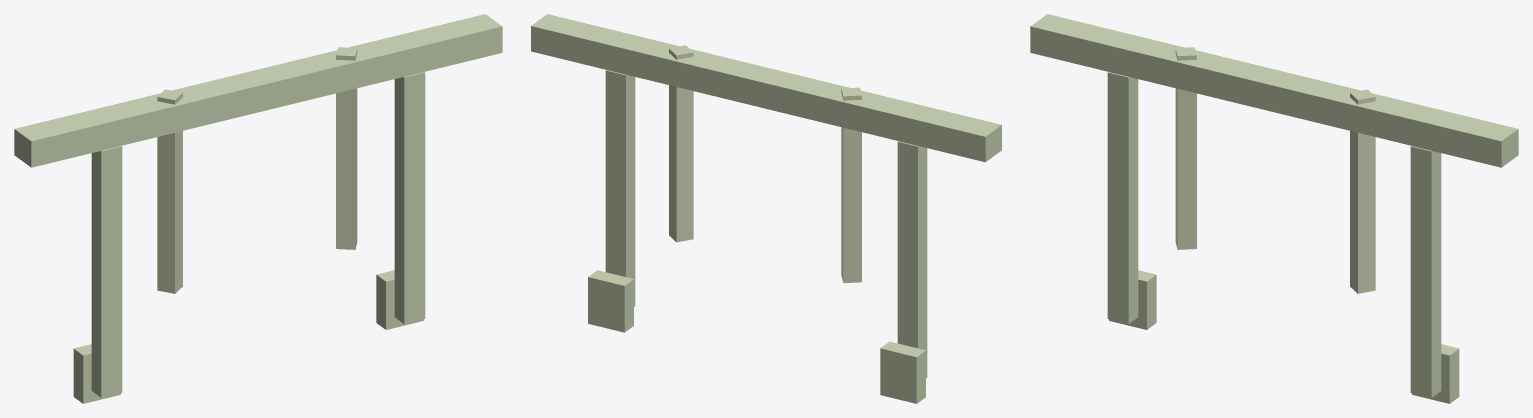
Rendered from furniture_sign_overhead_bracket.glb.
3 renders of one model, left to right at view 1: azimuth 30°, elevation 25°; view 2: azimuth 150°, elevation 25°; view 3: azimuth 330°, elevation 25°, orthographic. The views are drawn at different scales.
Visible parts, largest first — view 1: beam, hanger_right, hanger_left, brace_left, brace_right, clamp_left, clamp_right; view 2: beam, hanger_left, hanger_right, brace_right, brace_left, clamp_left, clamp_right; view 3: beam, hanger_left, hanger_right, brace_right, brace_left, clamp_right, clamp_left.
Boxes of the visible parts, left/top/right/bottom form: beam: left=14, top=14, right=502, bottom=167; hanger_right: left=394, top=72, right=425, bottom=323; hanger_left: left=91, top=146, right=122, bottom=397; brace_left: left=157, top=89, right=182, bottom=293; brace_right: left=336, top=47, right=357, bottom=249; clamp_left: left=73, top=344, right=120, bottom=403; clamp_right: left=376, top=270, right=423, bottom=329; beam: left=531, top=14, right=1001, bottom=162; hanger_left: left=897, top=141, right=927, bottom=378; hanger_right: left=605, top=70, right=635, bottom=306; brace_right: left=669, top=45, right=693, bottom=242; brace_left: left=841, top=87, right=861, bottom=283; clamp_left: left=880, top=341, right=925, bottom=403; clamp_right: left=588, top=270, right=633, bottom=332; beam: left=1030, top=14, right=1518, bottom=167; hanger_left: left=1107, top=72, right=1138, bottom=323; hanger_right: left=1410, top=146, right=1441, bottom=397; brace_right: left=1350, top=89, right=1375, bottom=293; brace_left: left=1175, top=47, right=1196, bottom=249; clamp_right: left=1412, top=344, right=1459, bottom=403; clamp_left: left=1109, top=270, right=1156, bottom=329.
Bounding box in the file's own units: 2.24 × 1.33 × 0.19.
